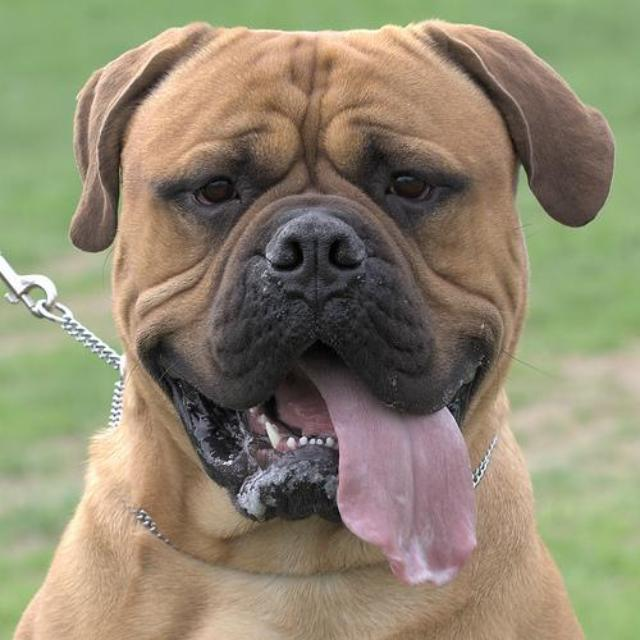bullmastiff: (6, 17, 616, 640)
